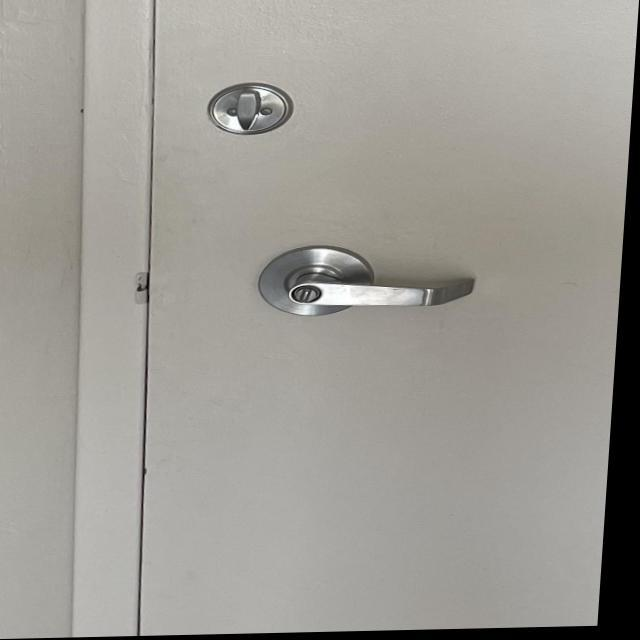door_handle: (220, 257, 503, 335)
